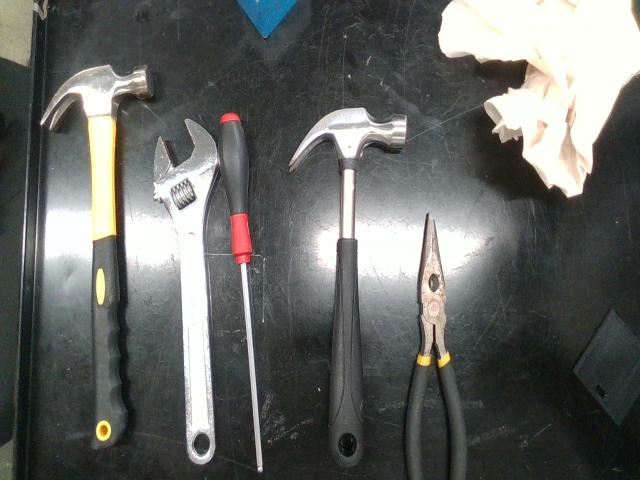Adjustable spanner: (154, 118, 219, 465)
Hammer: (41, 65, 154, 448), (289, 108, 408, 466)
Needle-nose pliers: (406, 213, 466, 480)
Screwdriver: (218, 113, 262, 472)
